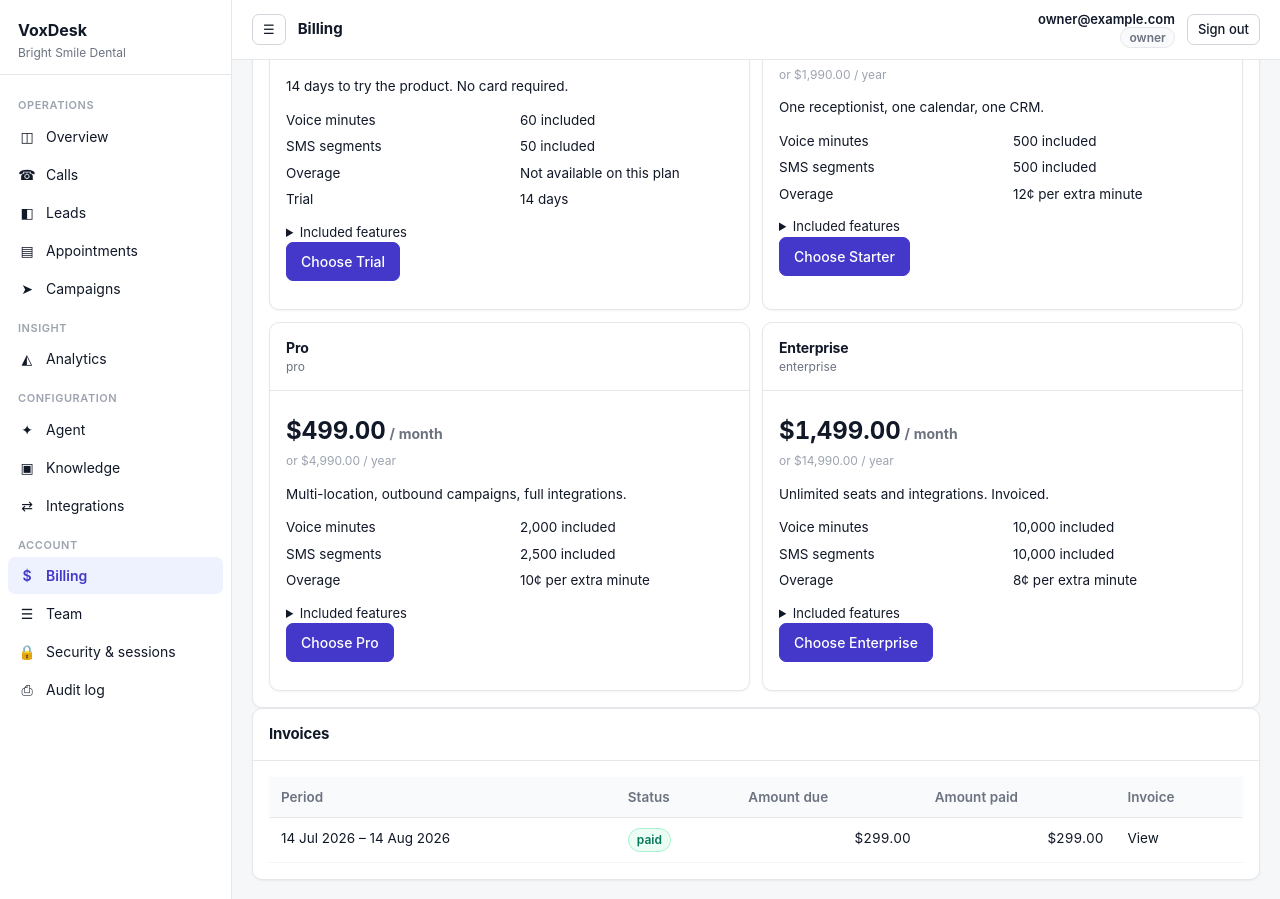
Scenario: checkout › never claims payment succeeded, only that checkout opened
The width and height of the screenshot is (1280, 899).
(page scrolled)
Click the button "Choose Pro" at point(340, 642), box [286,623,394,662]
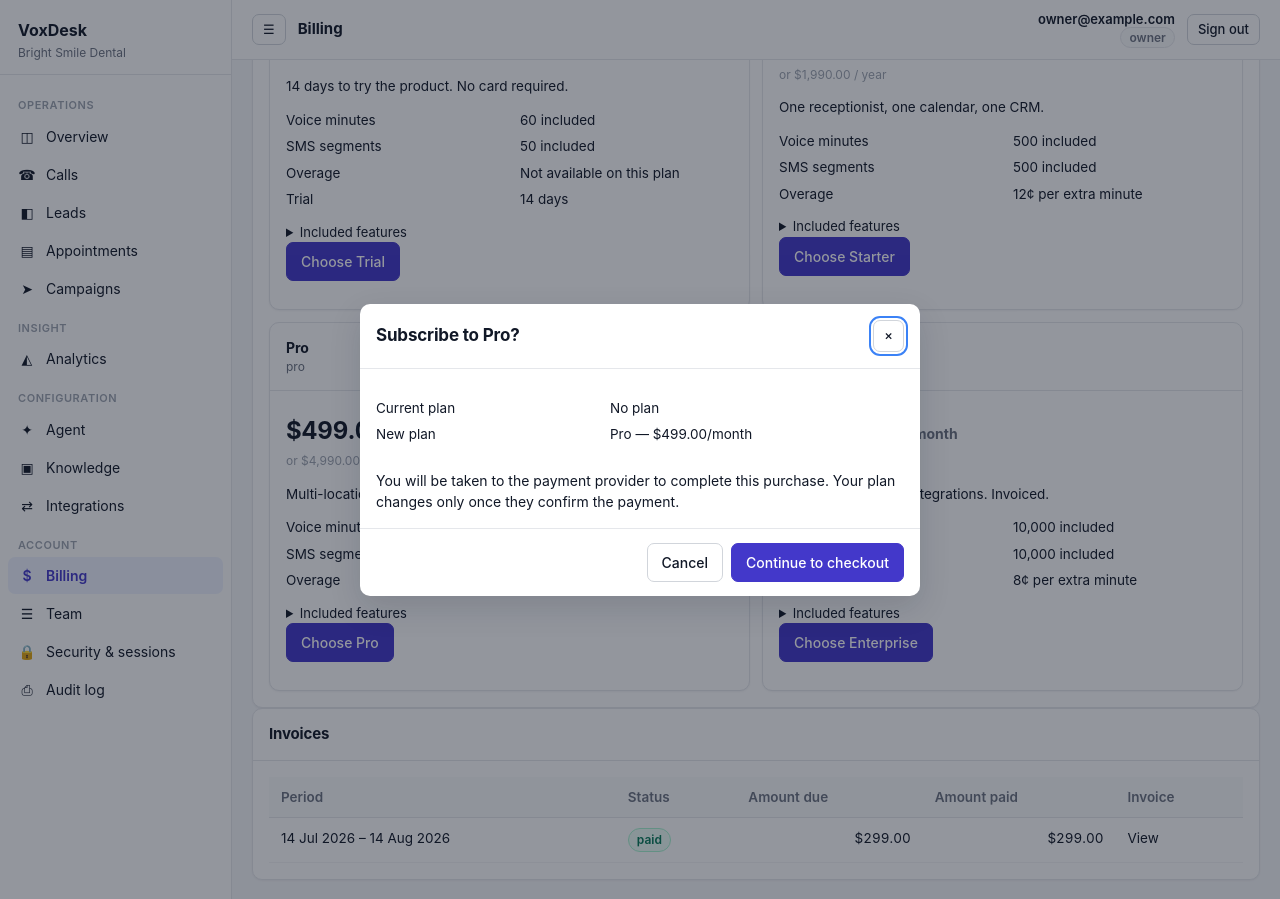
Click the button "Continue to checkout" at point(818, 562), box [731,543,904,582]
(page scrolled)
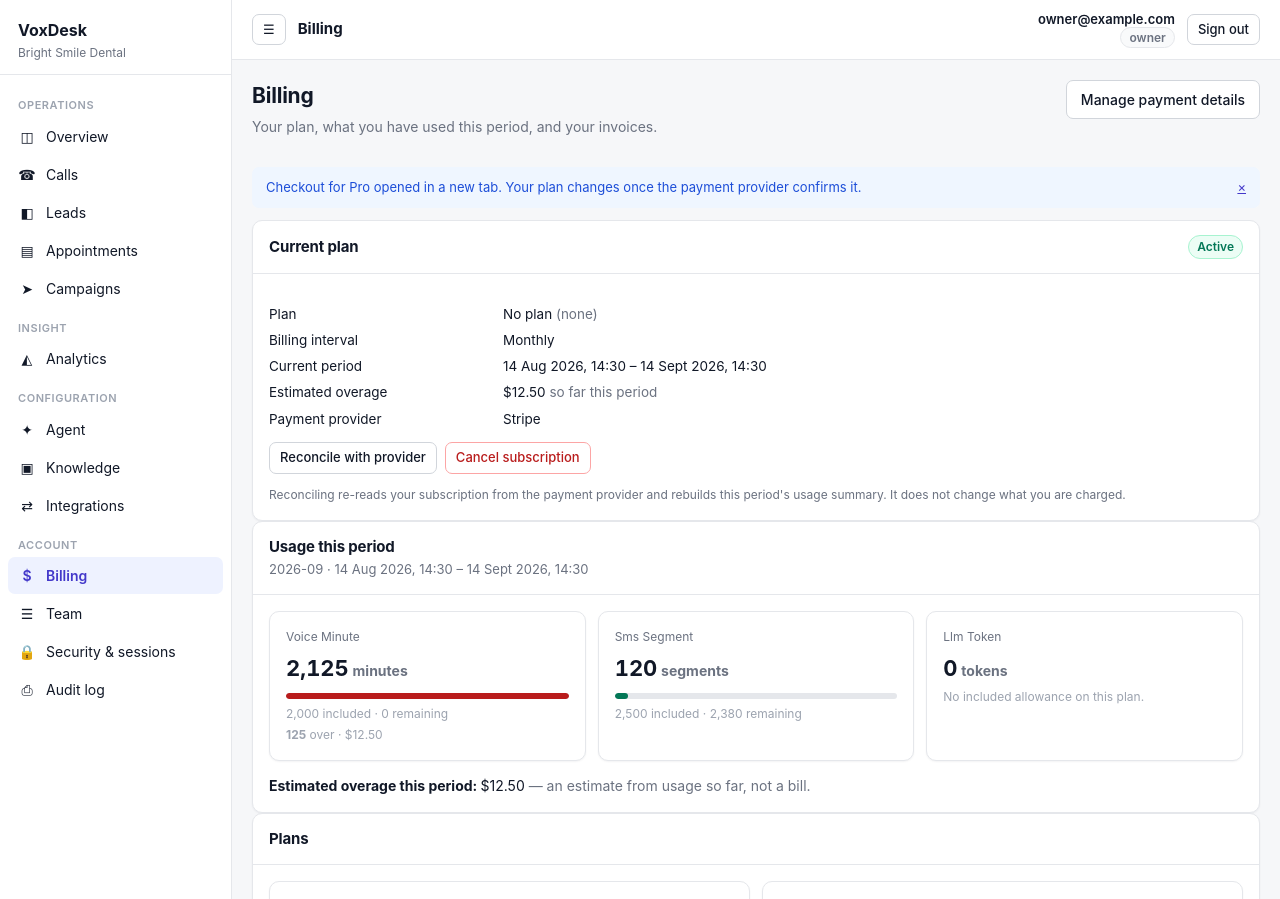
expect the text "Checkout for Pro opened in a new tab" shows "once the payment provider confirms it": met, box [266,178,862,194]
